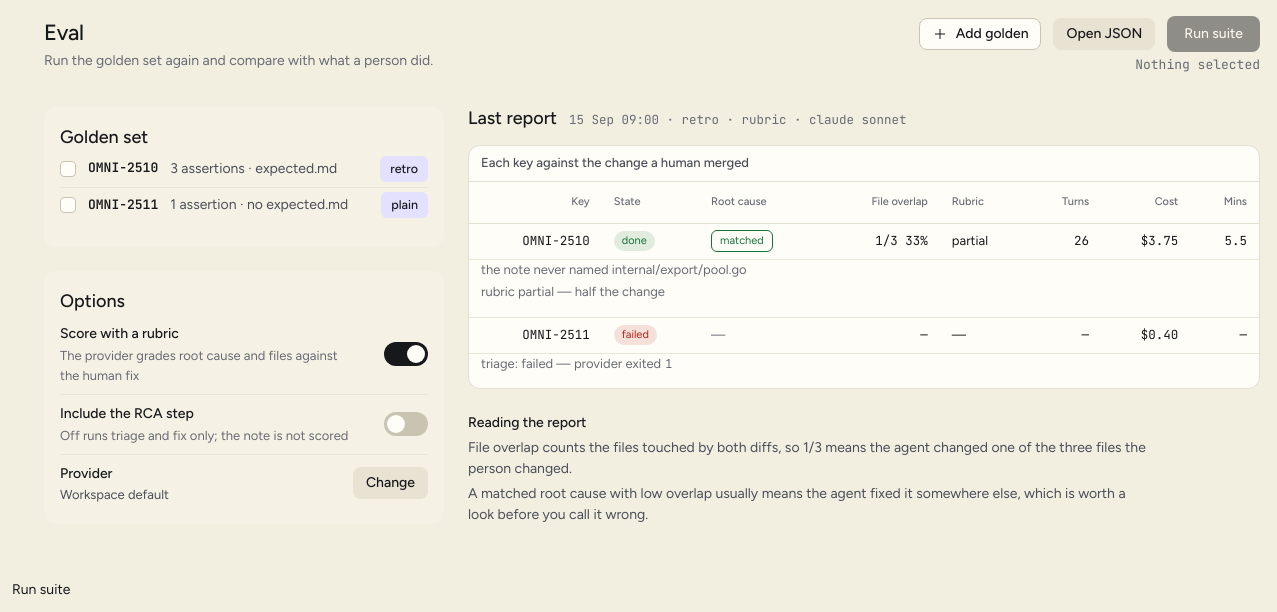
Scenario: Eval run suite › leaves the window clause out when no quota has been read
Click the checkbox labelled "OMNI-2510": (68,169) [60, 161, 76, 177]
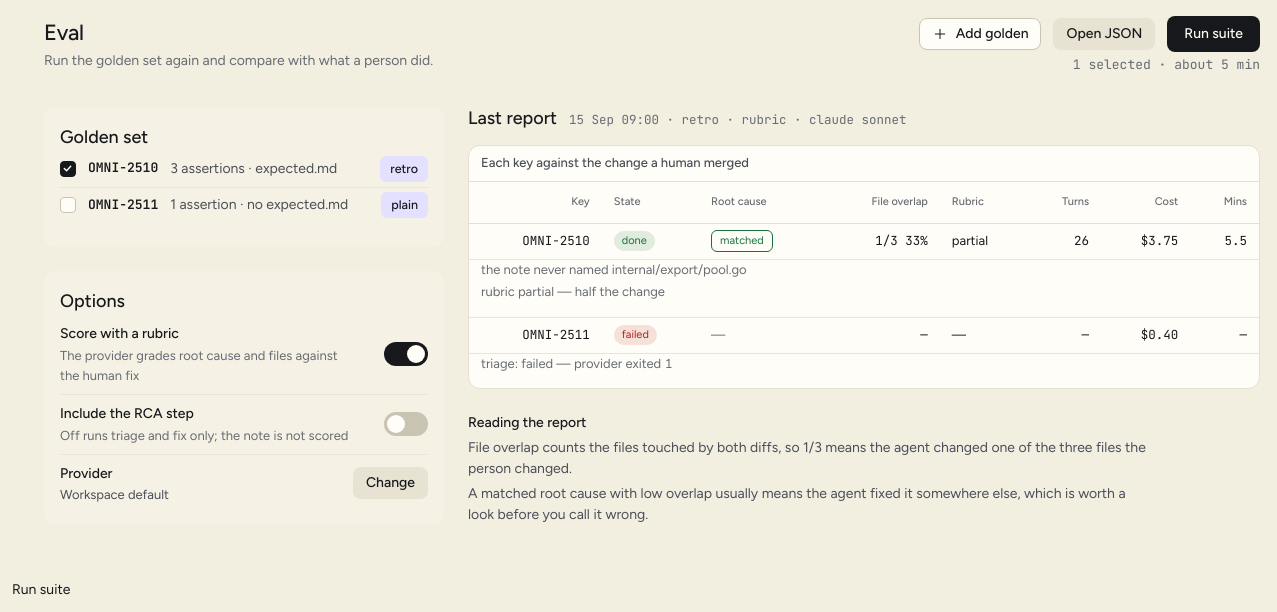
Expected: the text "1 selected · about 5 min" is shown, [1073, 56, 1260, 75]
